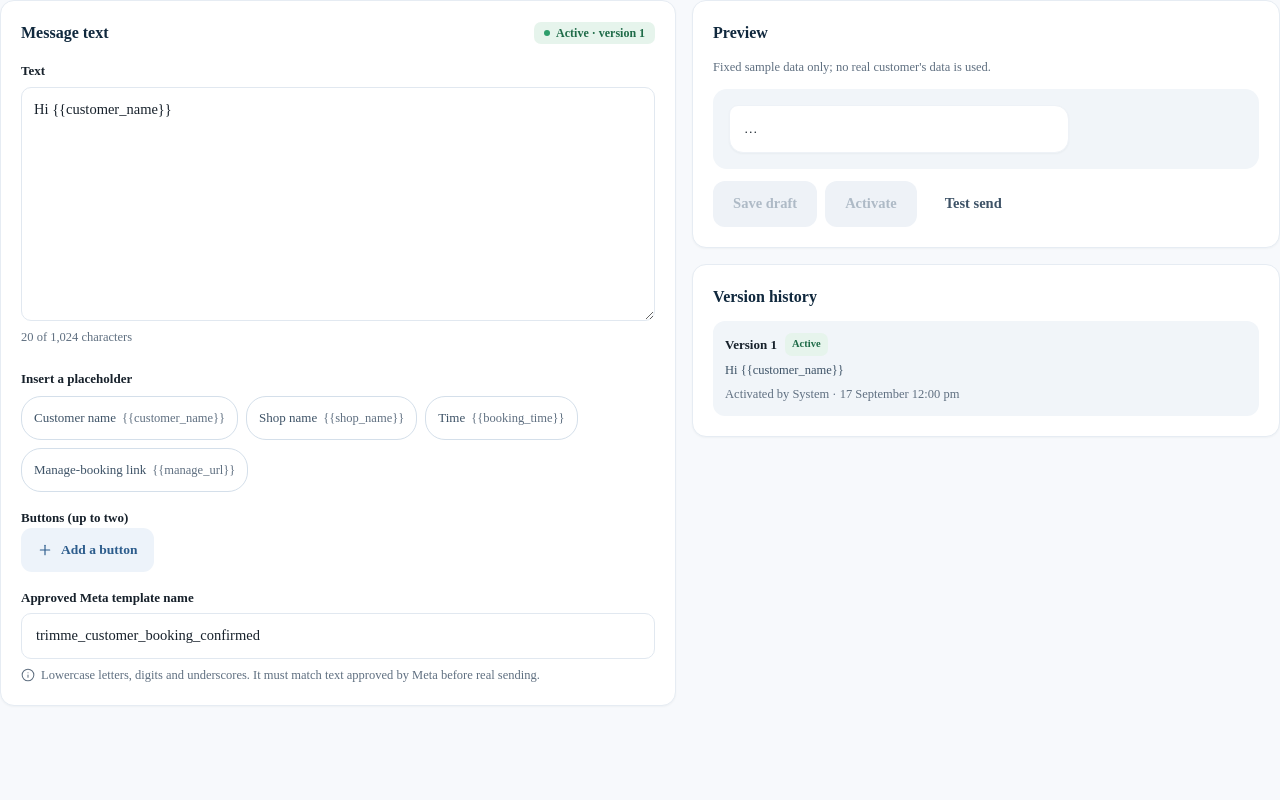
it: TemplateEditor › inserts a placeholder chip at the caret and previews through the API with sample data
The image size is (1280, 800).
Click the button "Shop name {{shop_name}}" at (332, 418), box x1=246 y1=396 x2=417 y2=440
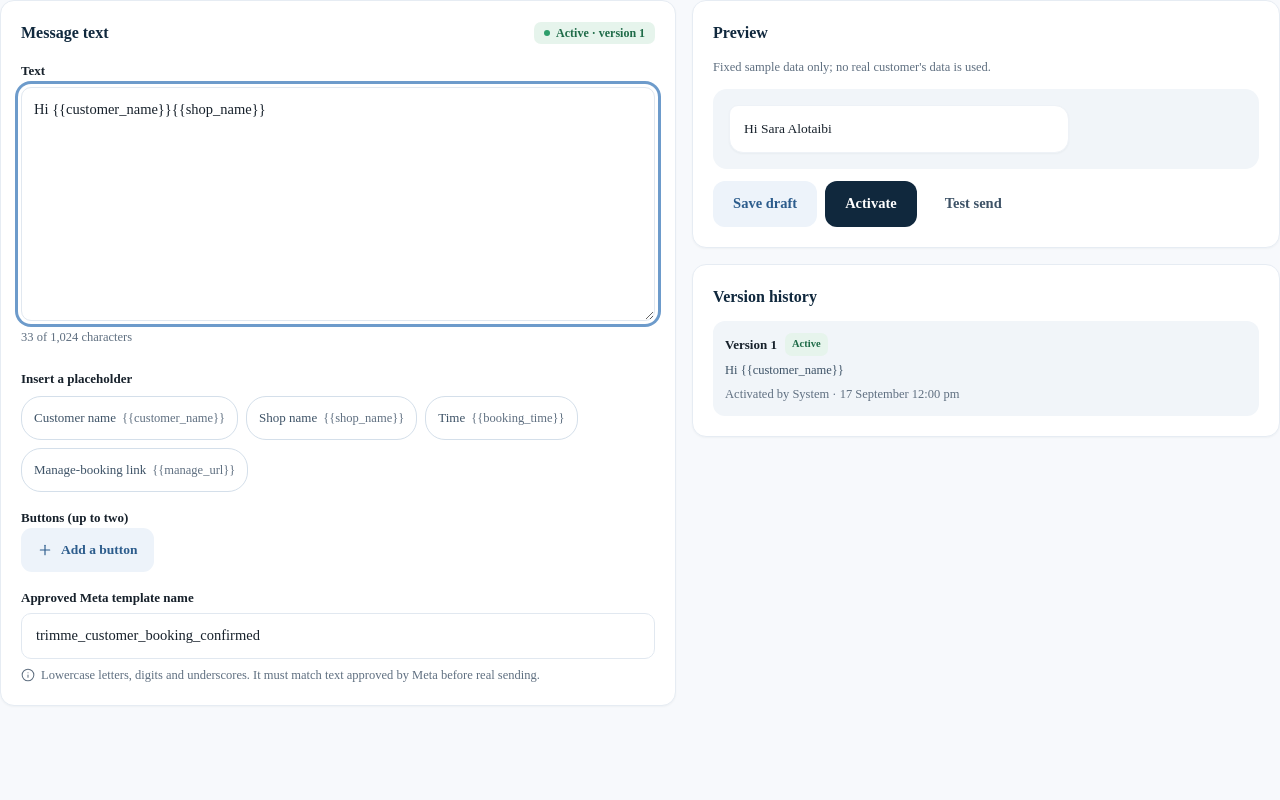
Check: the text box labelled "Text" holds "Hi {{customer_name}}{{shop_name}}", box x1=21 y1=86 x2=655 y2=321
Check: the text "Hi Sara Alotaibi" is shown, box x1=744 y1=121 x2=832 y2=136
